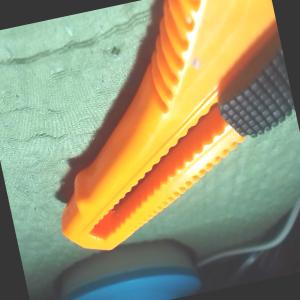estilete: (16, 0, 300, 259)
